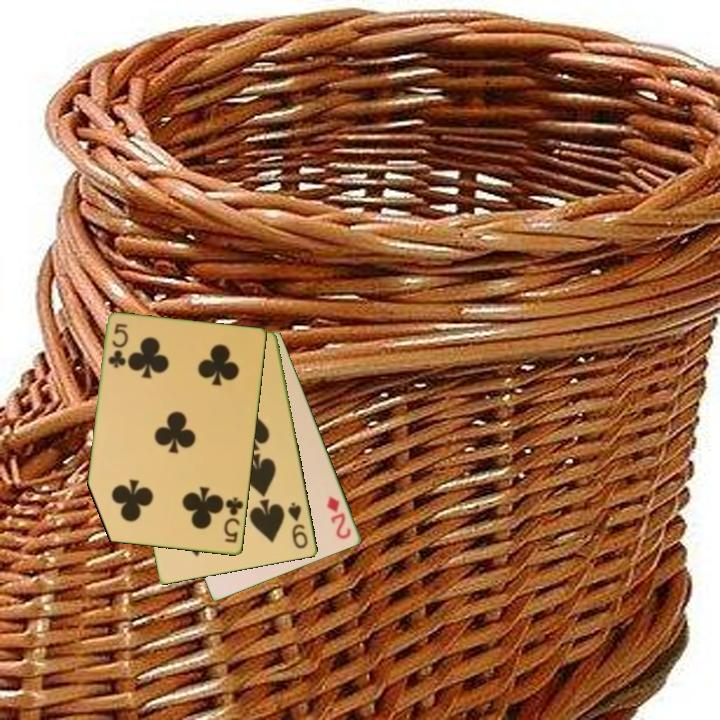2d: (323, 492, 354, 542)
5c: (105, 320, 131, 371), (221, 494, 246, 546)
9s: (284, 499, 311, 552)
